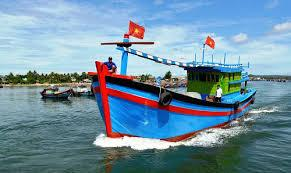Ship: (92, 36, 257, 142)
